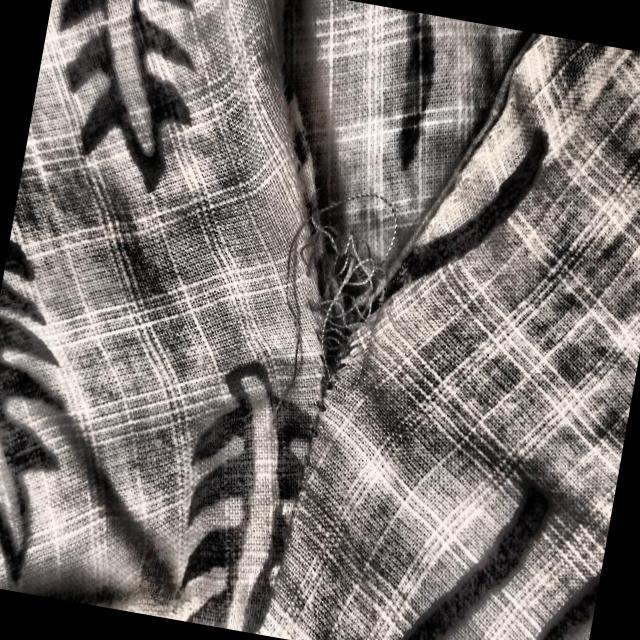gray stitch: (248, 174, 425, 462)
